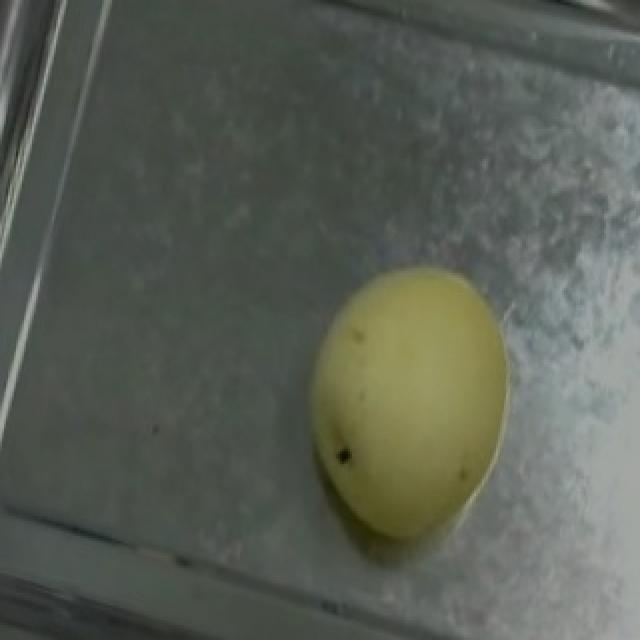Fruit: (256, 224, 548, 576)
